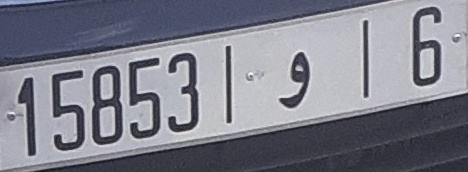1: (15, 76, 38, 158)
3: (166, 53, 201, 132)
5: (49, 69, 87, 152), (128, 58, 163, 141)
6: (411, 5, 443, 88)
8: (92, 64, 124, 146)
waw: (276, 50, 313, 110)
